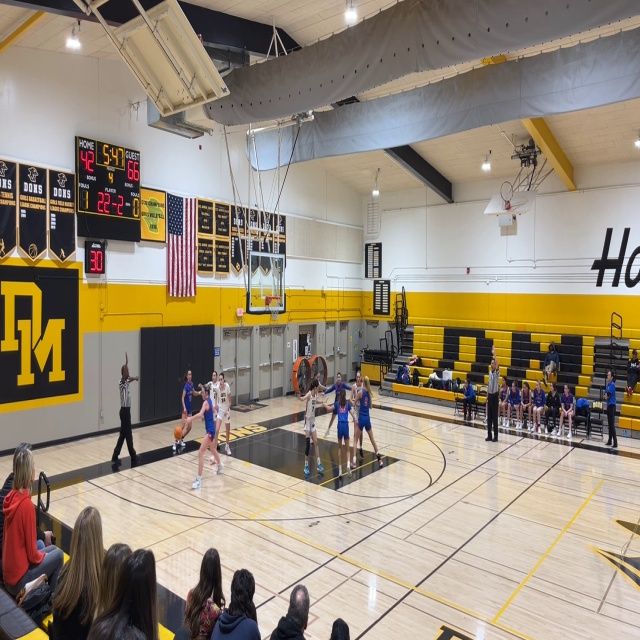Basketball: (174, 426, 184, 440)
